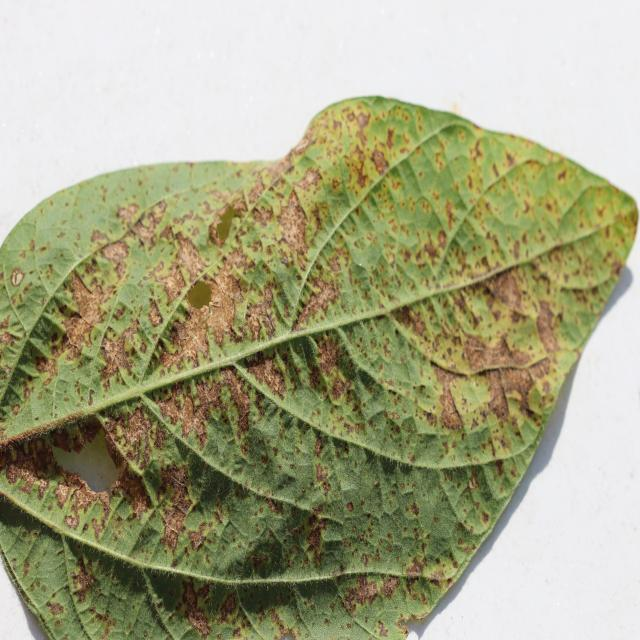Bacterial_Blight: (428, 268, 554, 364), (438, 356, 544, 444), (459, 334, 543, 410), (193, 255, 254, 346), (455, 326, 535, 374), (168, 301, 217, 366), (2, 439, 61, 492), (109, 410, 156, 474), (239, 279, 284, 343), (166, 385, 212, 447), (60, 478, 110, 533), (66, 268, 110, 330), (431, 363, 469, 429), (498, 364, 541, 420), (176, 580, 216, 636), (248, 348, 291, 400), (173, 234, 212, 291), (275, 192, 311, 253), (301, 269, 341, 321), (159, 463, 194, 518), (224, 371, 255, 427), (100, 332, 136, 378), (120, 474, 152, 524), (205, 296, 237, 343), (485, 371, 513, 424), (491, 270, 526, 311), (314, 335, 343, 383), (534, 298, 561, 349), (63, 312, 96, 353), (128, 208, 161, 248), (347, 140, 377, 184), (344, 576, 384, 609), (461, 332, 492, 365), (98, 237, 131, 268), (162, 506, 189, 543), (69, 558, 94, 597), (292, 165, 322, 195), (157, 268, 184, 301), (34, 350, 59, 382), (440, 401, 463, 431), (422, 238, 440, 262)
Soybean: (0, 95, 640, 640)
